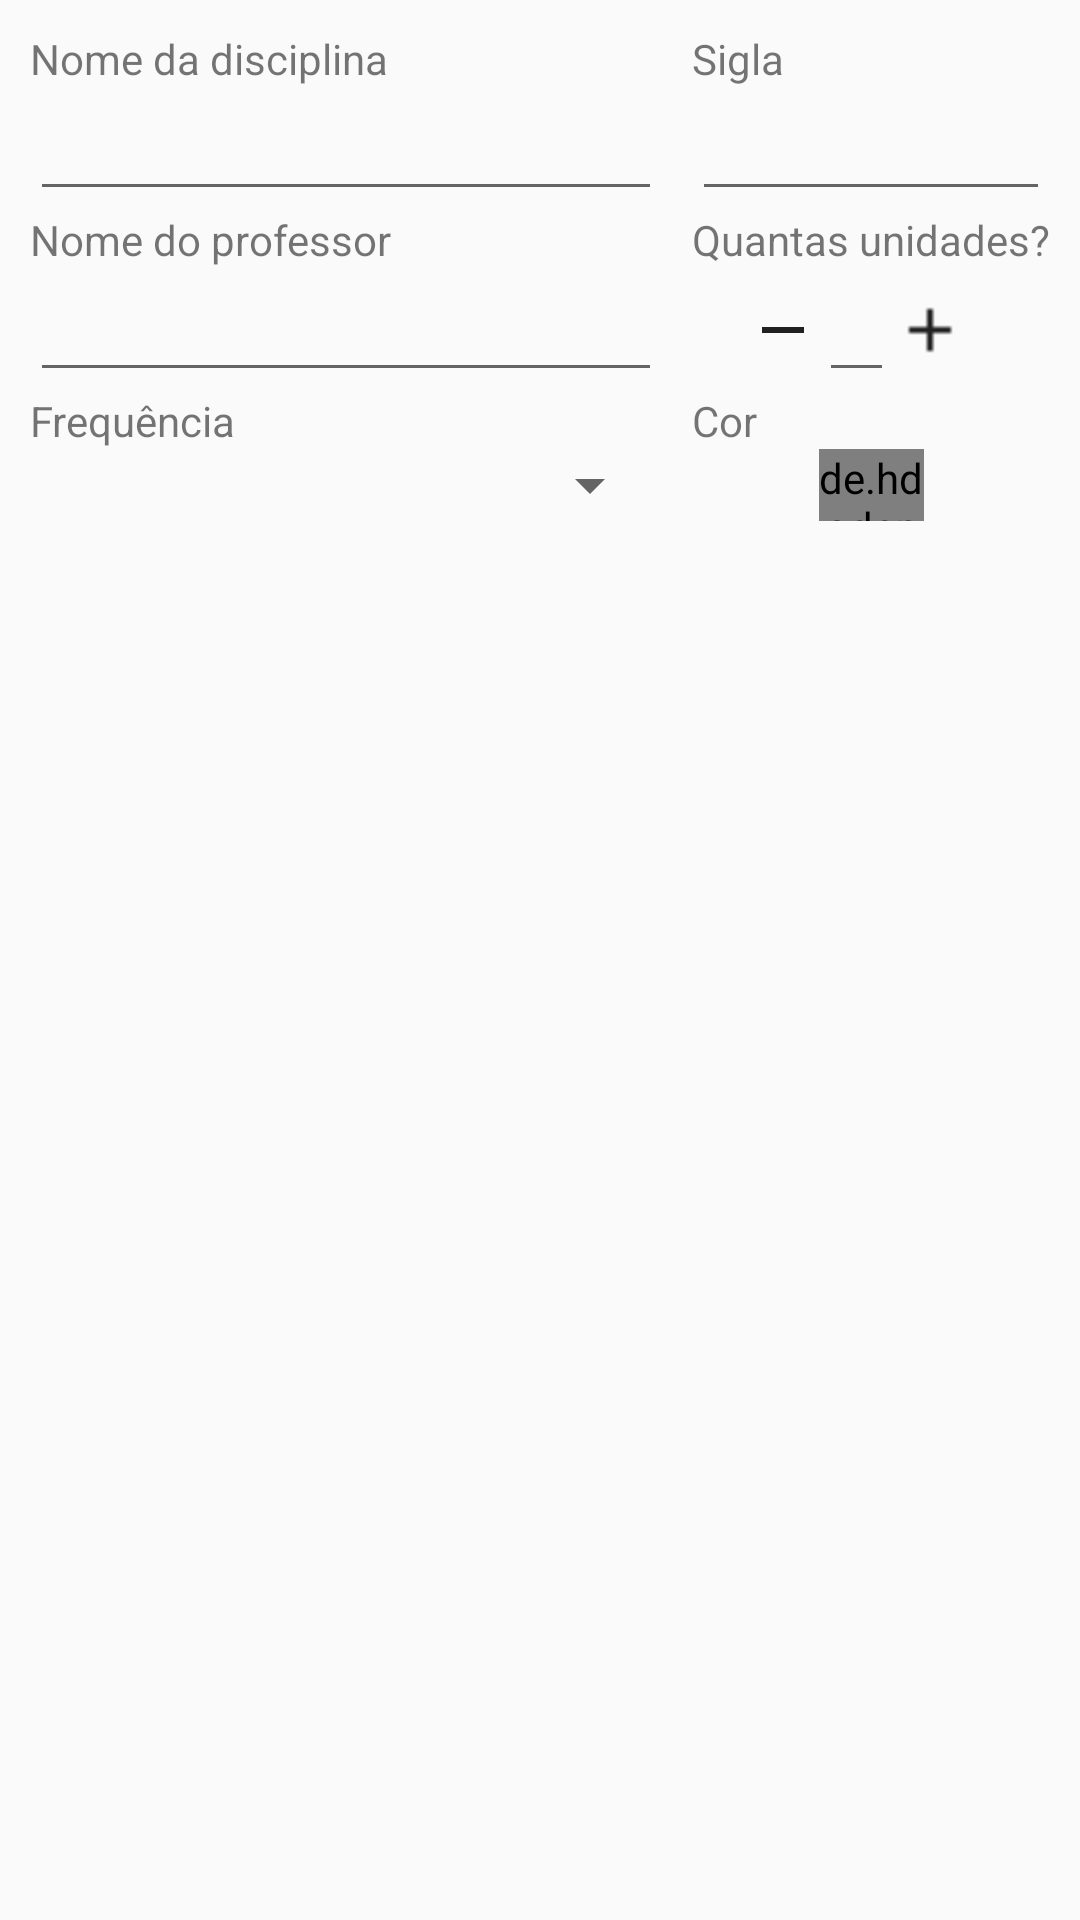

Screen size 1080px x 1920px. Icon name, then its box in pixels as rect(x1, y1, x2, y2):
Incremento: rect(907, 307, 953, 353)
